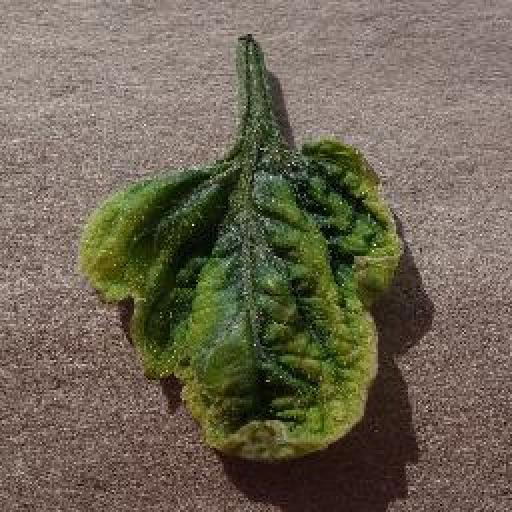Yellow Leaf Curl Virus: (80, 139, 404, 460)
